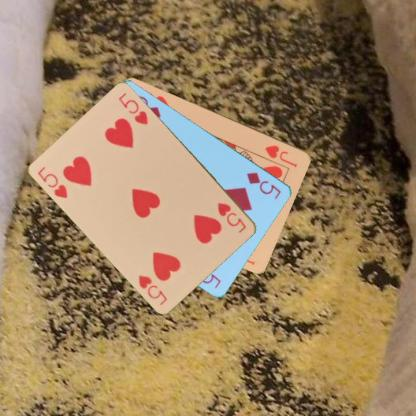5d: (245, 170, 282, 200)
5h: (36, 163, 70, 200), (215, 200, 248, 234)
Jh: (262, 142, 299, 169)
